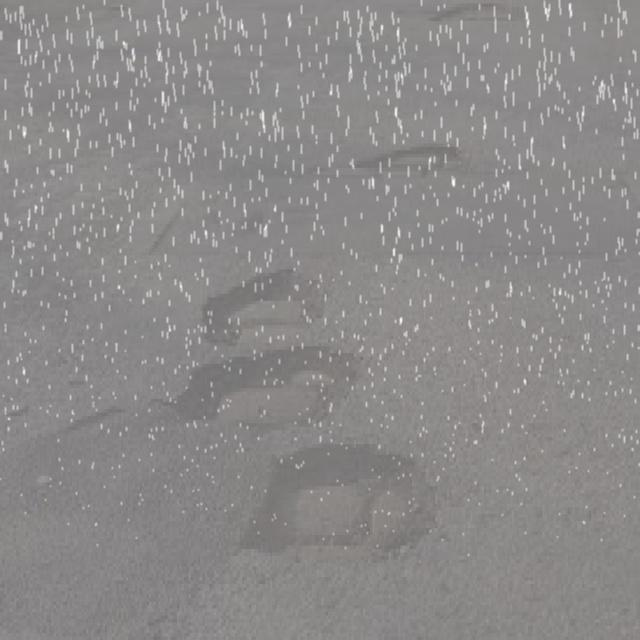Pothole: (229, 436, 453, 582), (158, 334, 371, 438), (178, 252, 345, 348), (350, 137, 467, 184), (428, 0, 526, 21)
